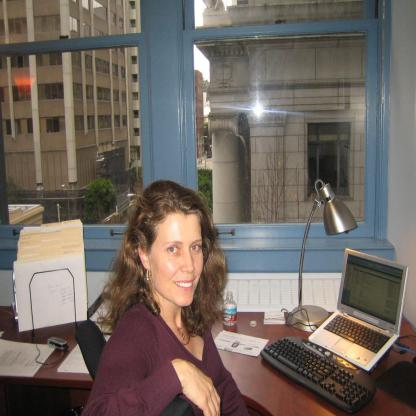board: (306, 248, 410, 370), (223, 290, 237, 328)
